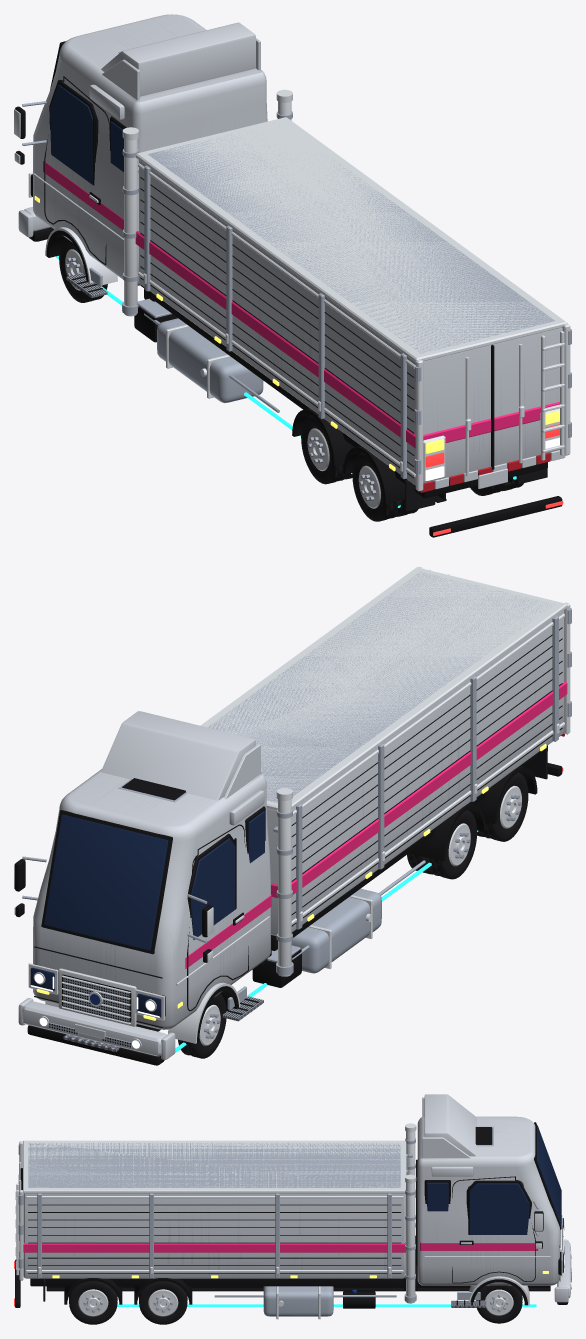
The model's file is dekotora_truck_base_alta.glb.
3 views of the same model, one above another, from view 1: azimuth 30°, elevation 25°; view 2: azimuth 150°, elevation 25°; view 3: azimuth 270°, elevation 25° (orthographic). The views are drawn at different scales.
Visible parts, largest first — view 1: truck_paint_white_panel, truck_chrome, truck_steel, truck_plastic_black, truck_paint_white, truck_paint_pink, truck_glass, wheel_r_L_1.5_1.06, wheel_r_L_3.0_1.06, wheel_f_L, truck_rubber; view 2: truck_paint_white_panel, truck_chrome, truck_steel, truck_glass, truck_plastic_black, truck_paint_white, truck_paint_pink, wheel_r_L_3.0_1.06, wheel_r_L_1.5_1.06, truck_mesh_perf, wheel_f_L, truck_diamond; view 3: truck_paint_white_panel, truck_steel, truck_chrome, truck_plastic_black, truck_glass, truck_paint_pink, truck_paint_white, wheel_r_R_1.5_1.06, wheel_r_R_3.0_1.06, wheel_f_R, truck_lamp_cyan.
Part boxes in pixels (left/top/right/bottom): truck_paint_white_panel: left=33, top=14, right=562, bottom=485; truck_chrome: left=14, top=89, right=570, bottom=491; truck_steel: left=22, top=51, right=571, bottom=479; truck_plastic_black: left=15, top=41, right=562, bottom=537; truck_paint_white: left=18, top=22, right=565, bottom=489; truck_paint_pink: left=43, top=160, right=559, bottom=448; truck_glass: left=50, top=84, right=123, bottom=184; wheel_r_L_1.5_1.06: left=352, top=452, right=402, bottom=521; wheel_r_L_3.0_1.06: left=301, top=415, right=348, bottom=484; wheel_f_L: left=59, top=238, right=107, bottom=302; truck_rubber: left=405, top=468, right=547, bottom=511; truck_paint_white_panel: left=33, top=610, right=563, bottom=1029; truck_chrome: left=14, top=566, right=570, bottom=1049; truck_steel: left=22, top=572, right=571, bottom=1009; truck_glass: left=30, top=811, right=264, bottom=1017; truck_plastic_black: left=15, top=627, right=562, bottom=1065; truck_paint_white: left=18, top=711, right=269, bottom=1059; truck_paint_pink: left=185, top=681, right=567, bottom=969; wheel_r_L_3.0_1.06: left=427, top=810, right=476, bottom=879; wheel_r_L_1.5_1.06: left=481, top=772, right=528, bottom=841; truck_mesh_perf: left=63, top=977, right=129, bottom=1022; wheel_f_L: left=178, top=993, right=226, bottom=1058; truck_diamond: left=63, top=996, right=263, bottom=1051; truck_paint_white_panel: left=23, top=1116, right=559, bottom=1285; truck_steel: left=18, top=1126, right=538, bottom=1316; truck_chrome: left=15, top=1123, right=571, bottom=1319; truck_plastic_black: left=15, top=1122, right=568, bottom=1308; truck_glass: left=427, top=1125, right=563, bottom=1273; truck_paint_pink: left=23, top=1242, right=538, bottom=1252; truck_paint_white: left=21, top=1094, right=571, bottom=1302; wheel_r_R_1.5_1.06: left=69, top=1281, right=117, bottom=1324; wheel_r_R_3.0_1.06: left=139, top=1281, right=187, bottom=1324; wheel_f_R: left=476, top=1285, right=522, bottom=1323; truck_lamp_cyan: left=117, top=1304, right=536, bottom=1306.
Bounding box in the file's own units: 3.28 × 4.45 × 11.96.
Materials: 17 (4 with a texture image).
